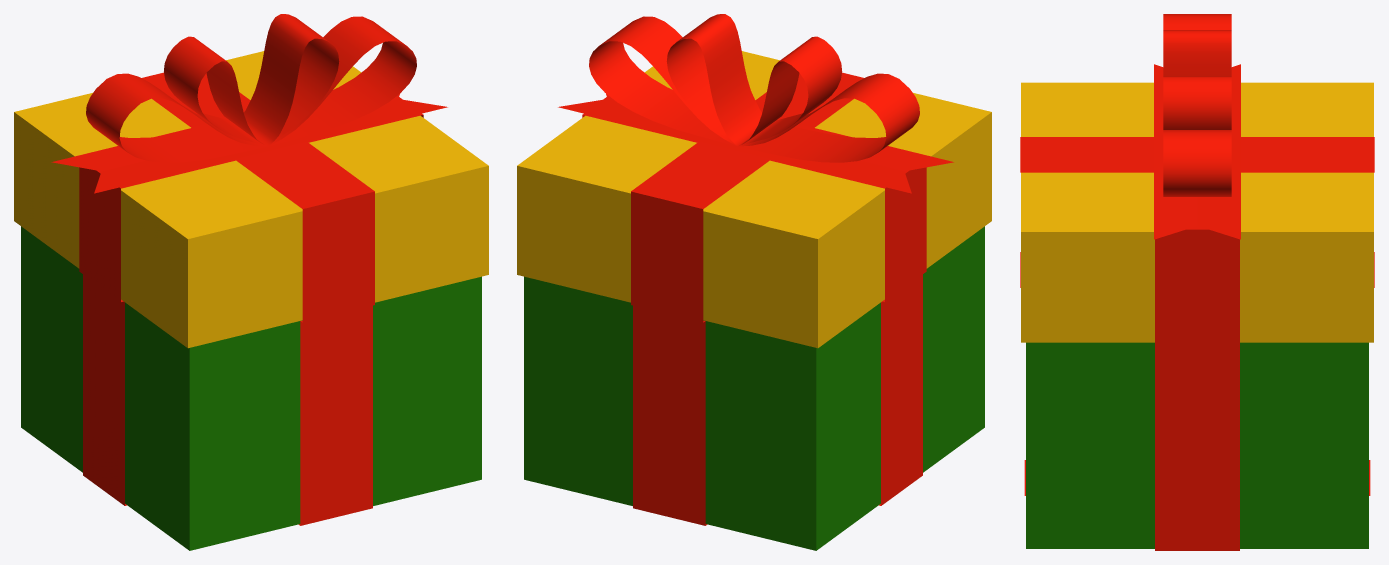
The model's file is caixa_presente.glb.
3 renders of one model, left to right at view 1: azimuth 30°, elevation 25°; view 2: azimuth 150°, elevation 25°; view 3: azimuth 270°, elevation 25°, orthographic.
Visible parts, largest first — view 1: caixapresente; view 2: caixapresente; view 3: caixapresente.
Part boxes in pixels (x1=…): caixapresente: x1=14, y1=14, x2=488, y2=550; caixapresente: x1=517, y1=14, x2=991, y2=550; caixapresente: x1=1020, y1=14, x2=1374, y2=550.
Bounding box in the file's own units: 2.43 × 2.73 × 2.07.
